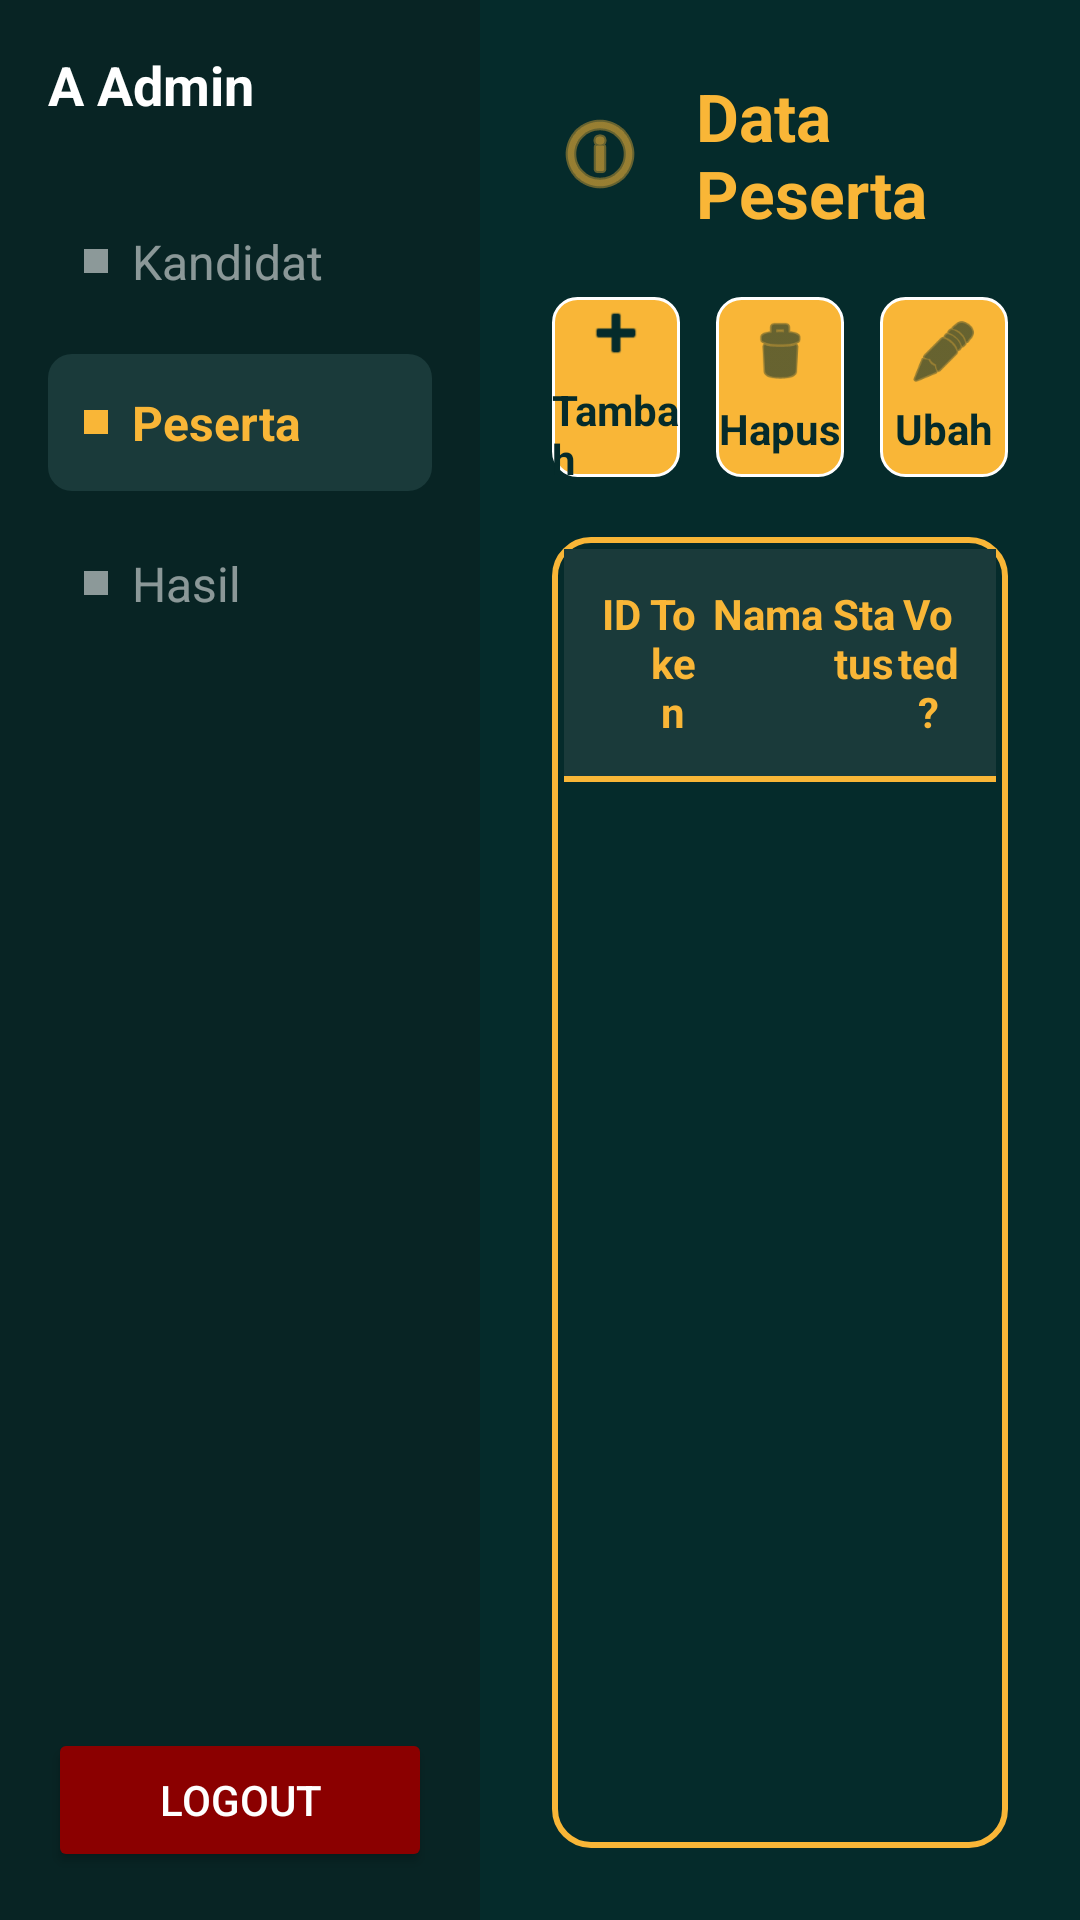

Screen size 1080x1920. Icon name, then its box in pixels as [x1,y1,x2,y2]:
add: [595,313,637,353]
delete: [760,323,801,379]
edit: [913,321,974,382]
